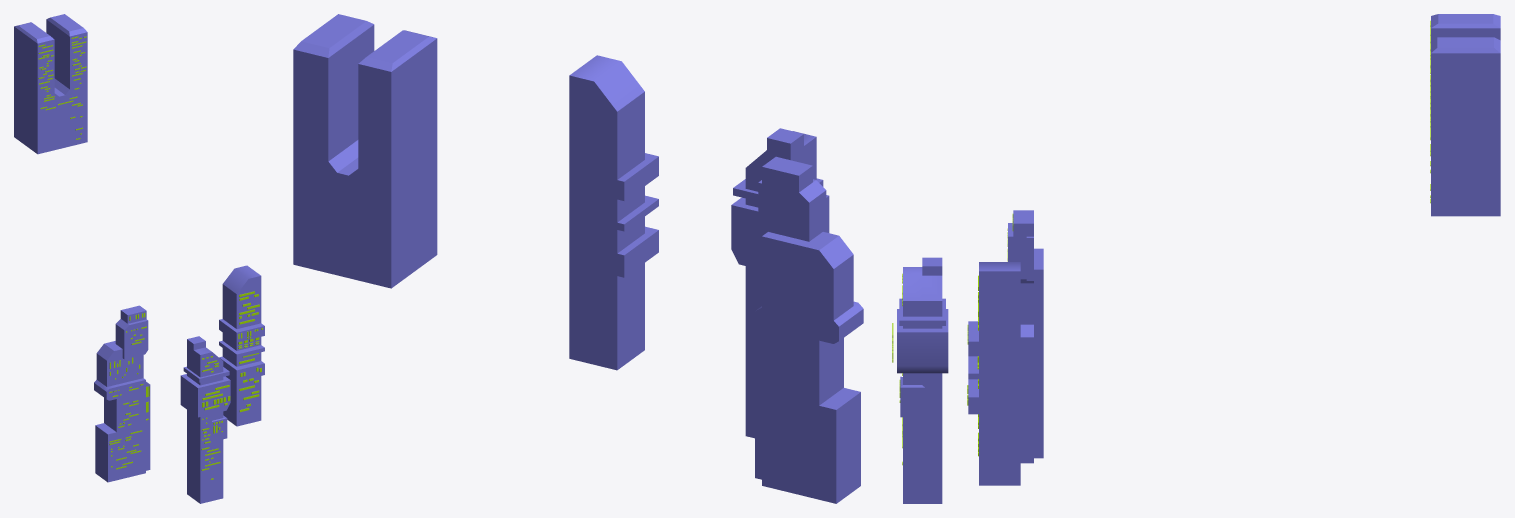
The model's file is bkg_buildings.fbx.
3 renders of one model, left to right at view 1: azimuth 30°, elevation 25°; view 2: azimuth 150°, elevation 25°; view 3: azimuth 270°, elevation 25°, orthographic. The views are drawn at different scales.
Visible parts, largest first — view 1: building_5, building_3, building_2, building_01; view 2: building_5, building_3, building_01, building_2; view 3: building_5, building_2, building_01, building_3.
Part boxes in pixels (box(x1,y1,x2,y2)): building_5: box(14, 14, 87, 154); building_3: box(94, 305, 150, 482); building_2: box(180, 336, 230, 503); building_01: box(219, 265, 264, 426); building_5: box(293, 14, 437, 288); building_3: box(755, 156, 863, 503); building_01: box(569, 55, 658, 370); building_2: box(731, 128, 829, 438); building_5: box(1431, 14, 1500, 216); building_2: box(897, 257, 948, 503); building_01: box(968, 262, 1020, 485); building_3: box(1008, 210, 1043, 463).
Size of the model in its own units: 25.06 by 54.02 by 61.28.
